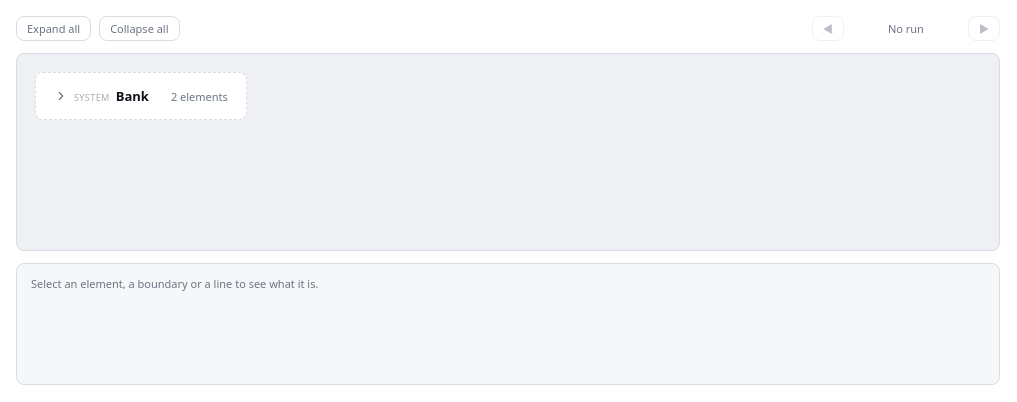
Test: C4Chart — selection › reports what a shut boundary holds, including the relations now inside it
Click the button "2 elements".
click(199, 96)  # box [164, 86, 235, 106]
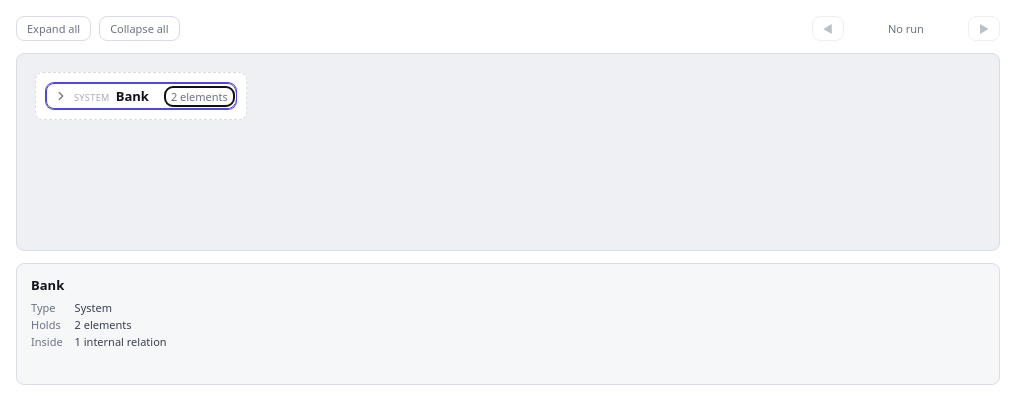
Now the element showing "Bank Type System Holds 2 elements Inside 1 internal relation" is shown, box [16, 263, 1000, 385]
